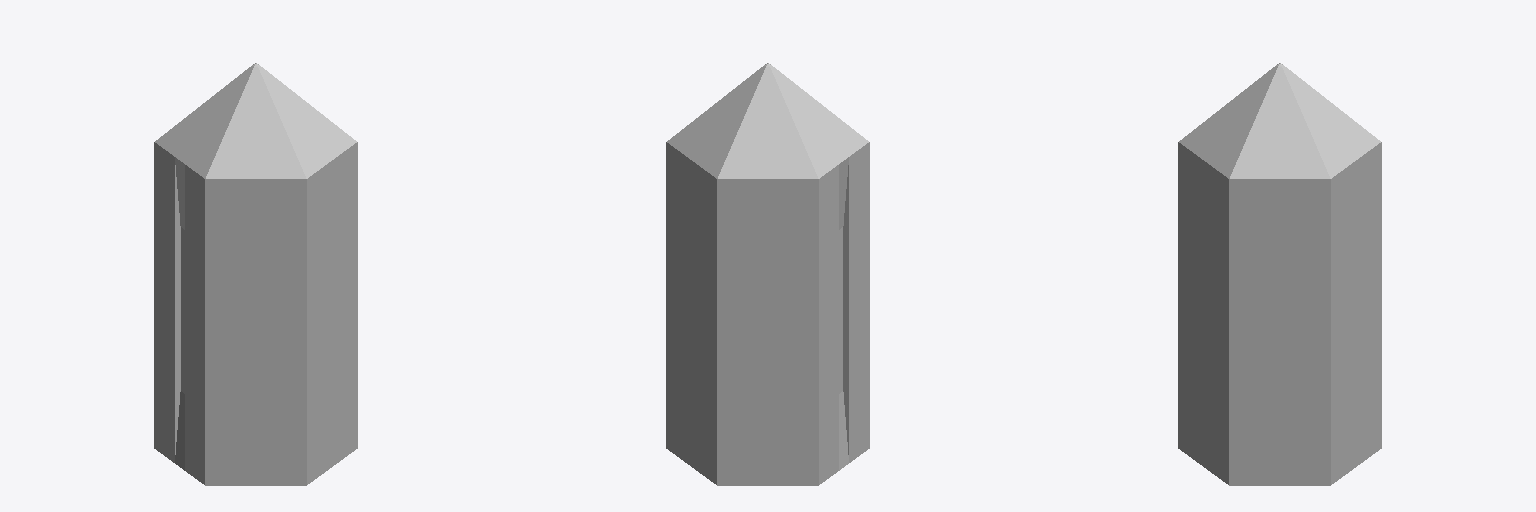
File: tracked_object_pointing.obj
The picture shows the model from 3 angles: view 1: azimuth 30°, elevation 25°; view 2: azimuth 150°, elevation 25°; view 3: azimuth 270°, elevation 25°; orthographic projection.
Parts seen in each view (by area): view 1: Cylinder.001_Cylinder; view 2: Cylinder.001_Cylinder; view 3: Cylinder.001_Cylinder.
Boxes of the visible parts, <box> form: Cylinder.001_Cylinder: <box>154,63,357,485</box>; Cylinder.001_Cylinder: <box>666,63,869,485</box>; Cylinder.001_Cylinder: <box>1178,63,1381,485</box>.
Bounding box in the file's own units: 5.2 × 12.56 × 6.